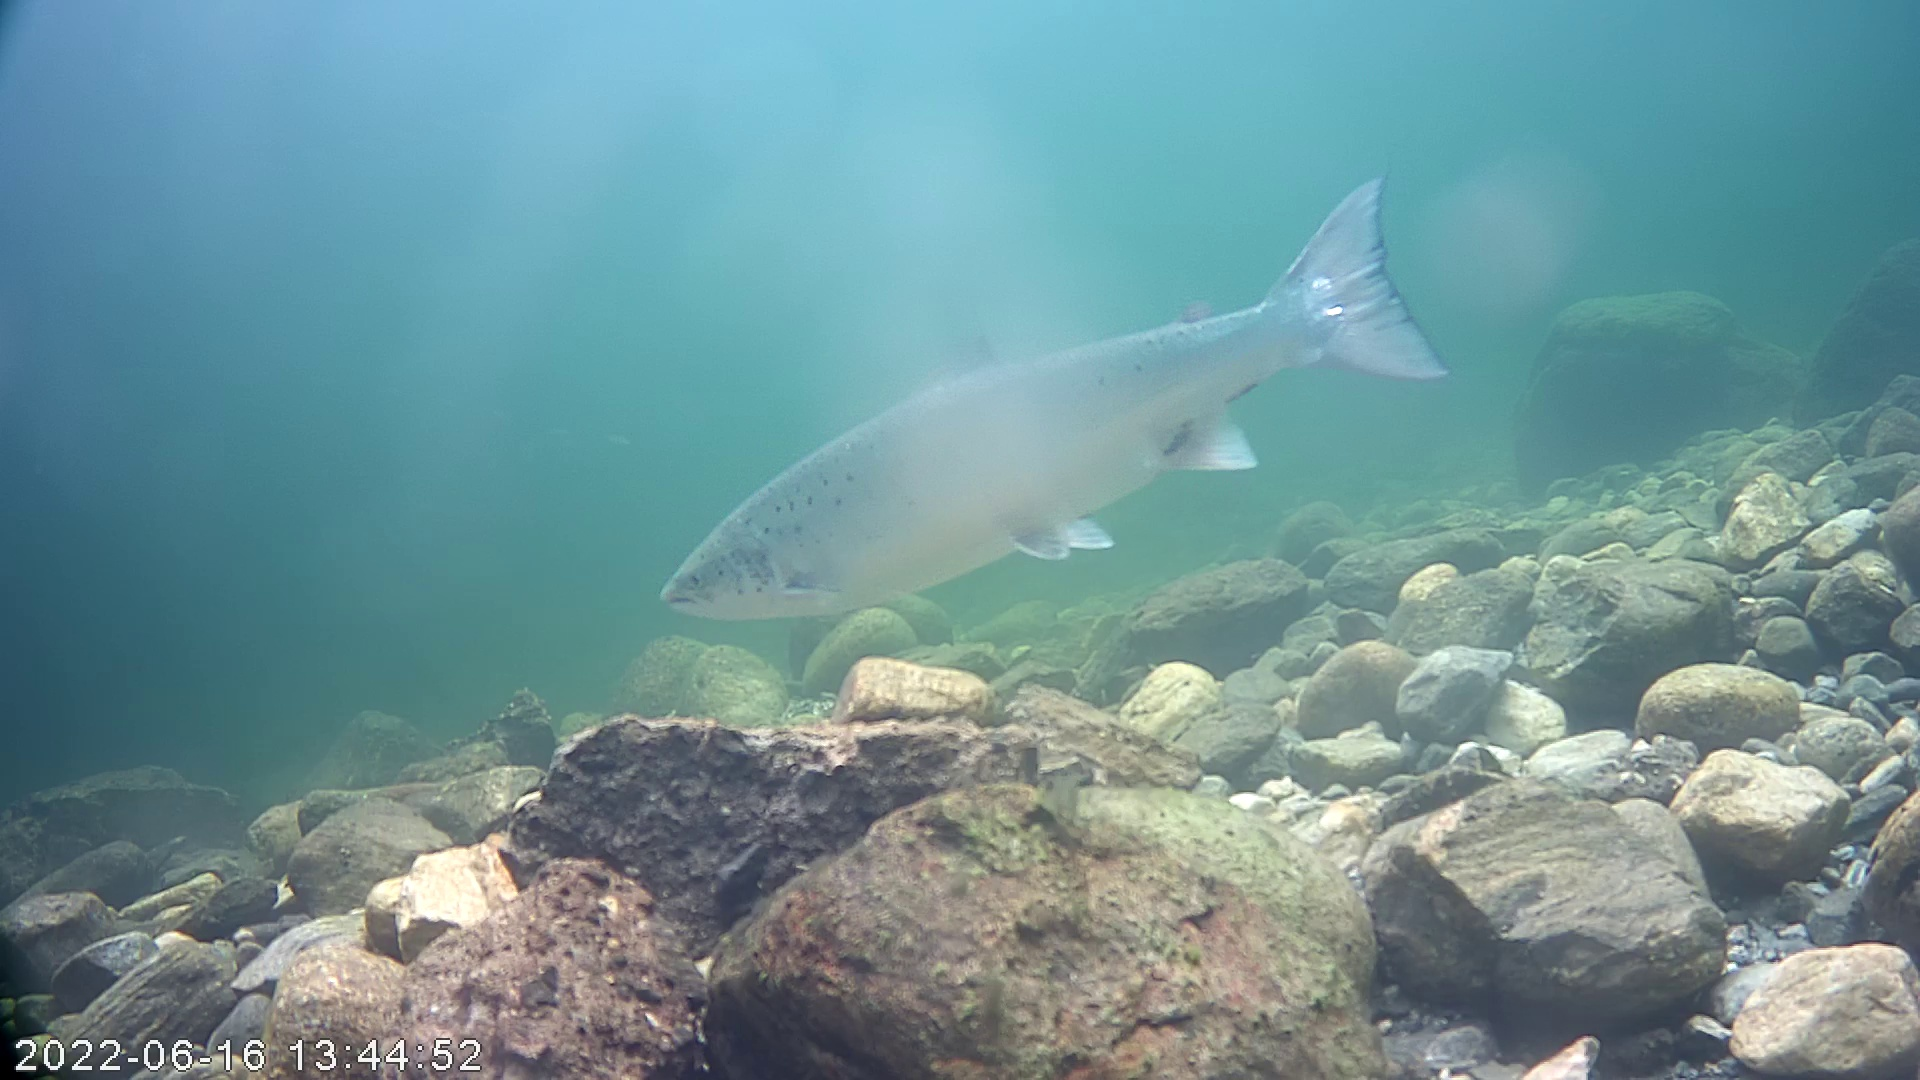salmon: (657, 174, 1455, 625)
